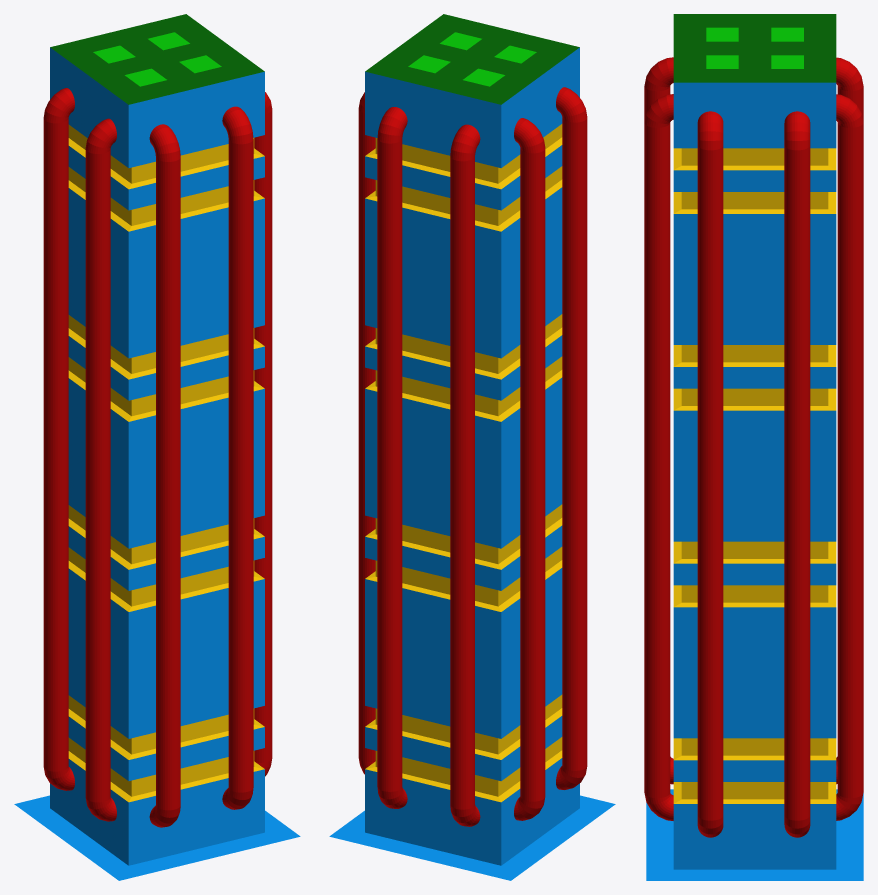
File: StorageTower.obj
The picture shows the model from 3 angles, left to right: view 1: azimuth 30°, elevation 25°; view 2: azimuth 150°, elevation 25°; view 3: azimuth 270°, elevation 25°; orthographic projection. The views are drawn at different scales.
Parts seen in each view (by area): view 1: StorageTower; view 2: StorageTower; view 3: StorageTower.
Part boxes in pixels (x1,y1,x2,y2): StorageTower: (14,14,300,880); StorageTower: (329,14,615,880); StorageTower: (644,14,863,880).
Bounding box in the file's own units: 1.01 × 4 × 1.01.
